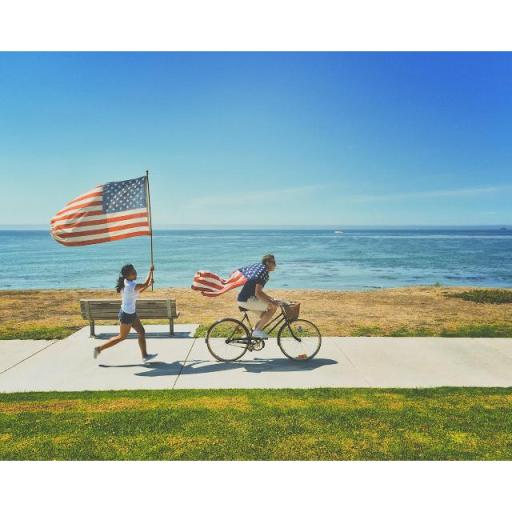Running: (86, 260, 169, 370)
